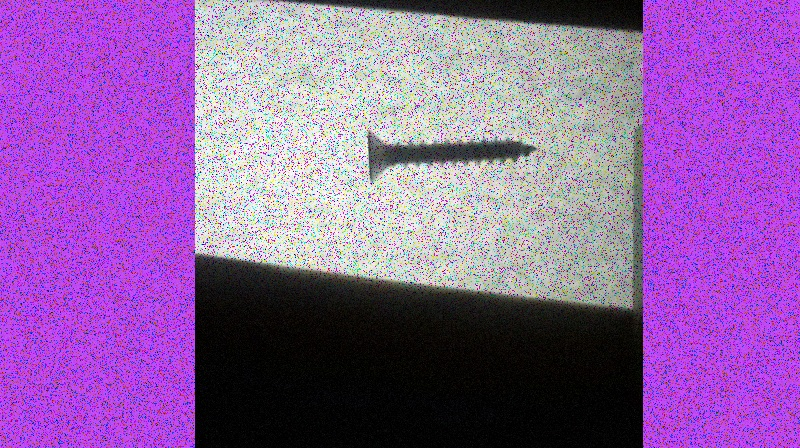S001: (363, 128, 540, 182)
